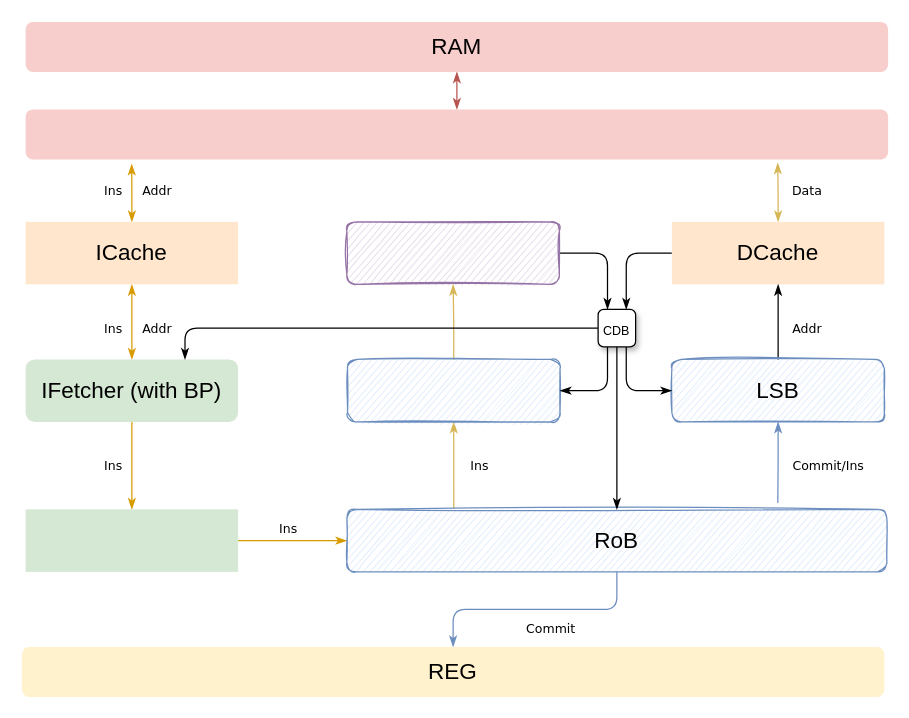
Some shapes in this 909 by 718 pixel diagram are drawn without their labels. Here are the shapes that lost their labels. From the top down, the centre of each, then its label:
point 456,134: Memory Controller
point 452,252: ALU
point 453,390: RS
point 131,540: Issue
